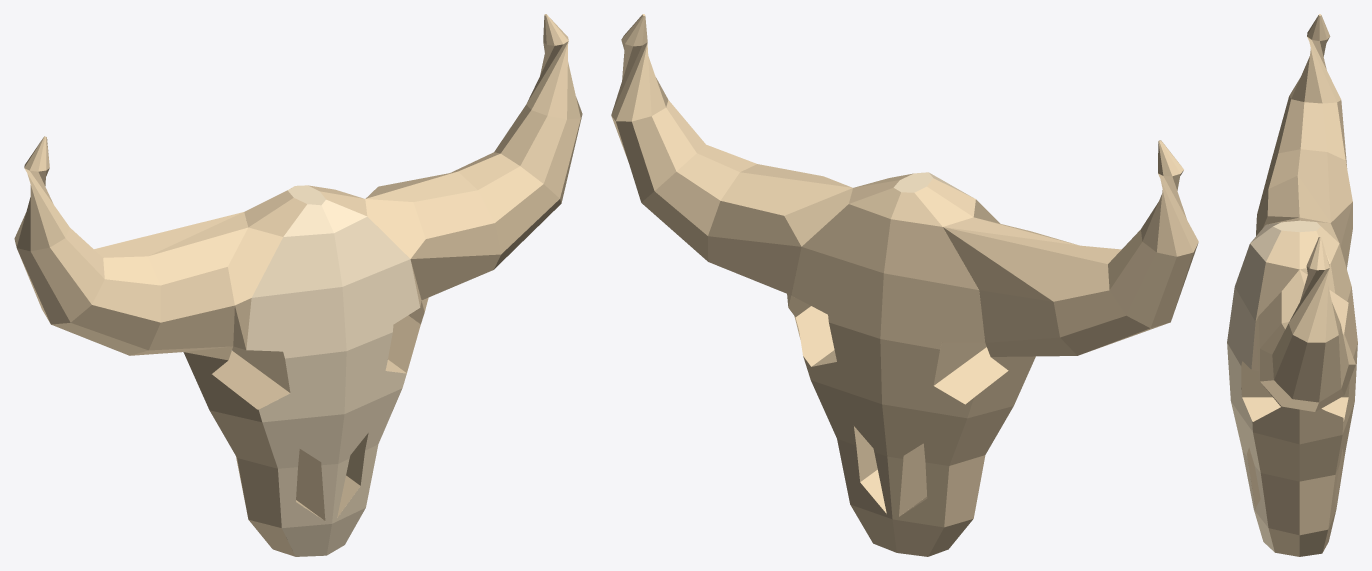
The model's file is DauBo.fbx.
The picture shows the model from 3 angles, left to right: view 1: azimuth 30°, elevation 25°; view 2: azimuth 150°, elevation 25°; view 3: azimuth 270°, elevation 25°; orthographic projection. The views are drawn at different scales.
Parts seen in each view (by area): view 1: GEO-Longhorn_Skull-curved_horn; view 2: GEO-Longhorn_Skull-curved_horn; view 3: GEO-Longhorn_Skull-curved_horn.
Boxes of the visible parts, x1,y1,x2,y2 form: GEO-Longhorn_Skull-curved_horn: [14, 14, 582, 556]; GEO-Longhorn_Skull-curved_horn: [611, 14, 1198, 556]; GEO-Longhorn_Skull-curved_horn: [1227, 14, 1357, 556].
Size of the model in its own units: 173 by 135 by 38.38.
